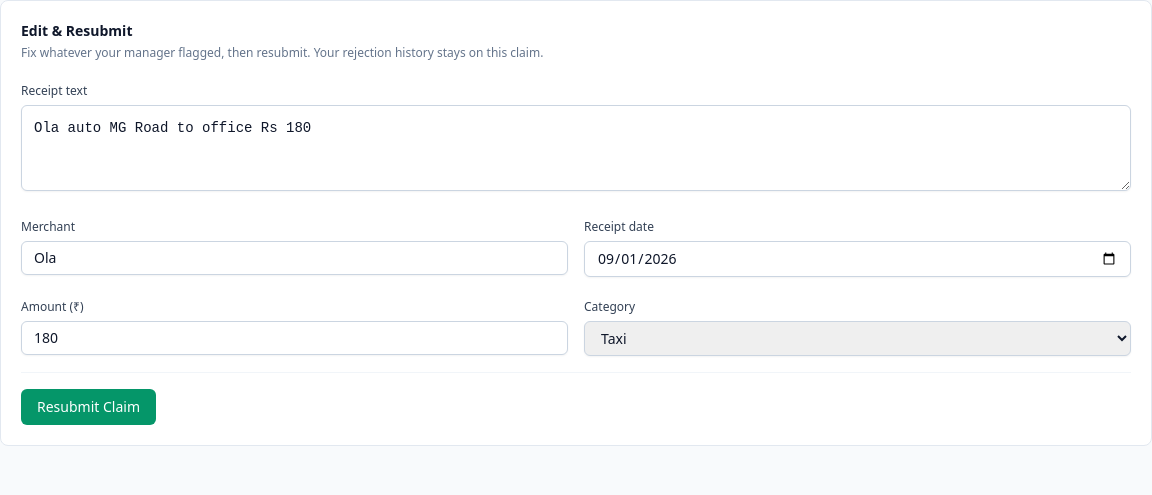
Test case: ResubmitPanel › shows an API error inline and does not redirect on failure
The width and height of the screenshot is (1152, 495).
Click the button "Resubmit Claim" at {"x": 88, "y": 407}, box [21,389,156,425]
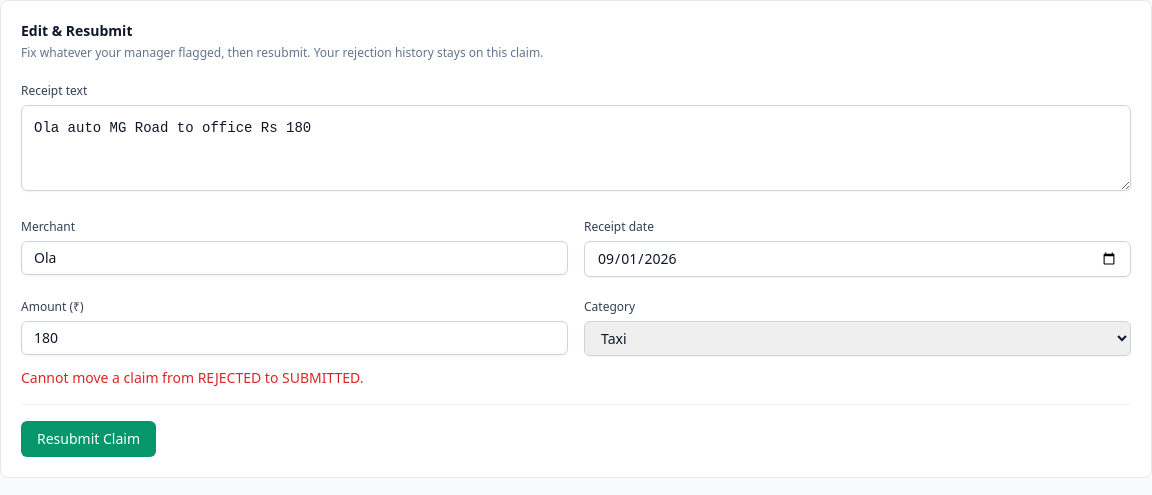
Check: the message shows "Cannot move a claim", box [21,368,364,387]
